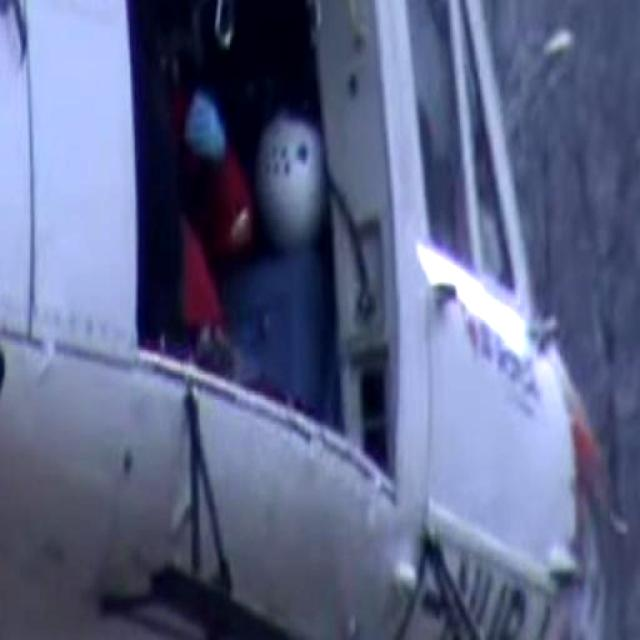drone: (0, 0, 630, 640)
